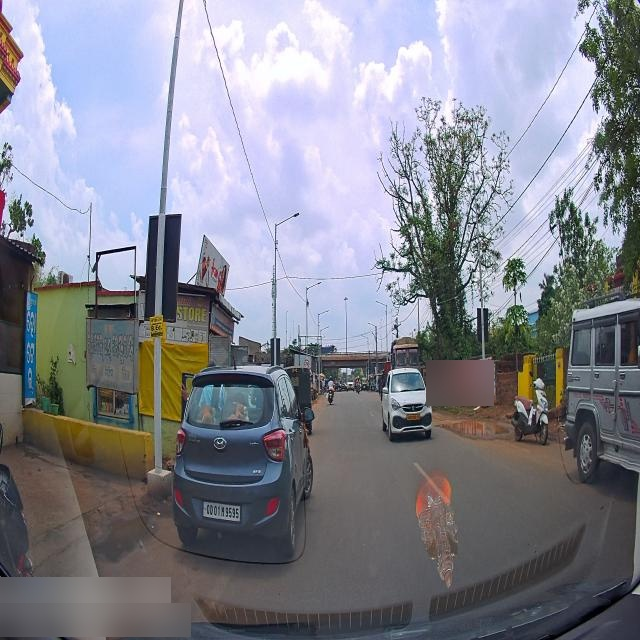pothole: (90, 504, 158, 570), (437, 416, 509, 442)
